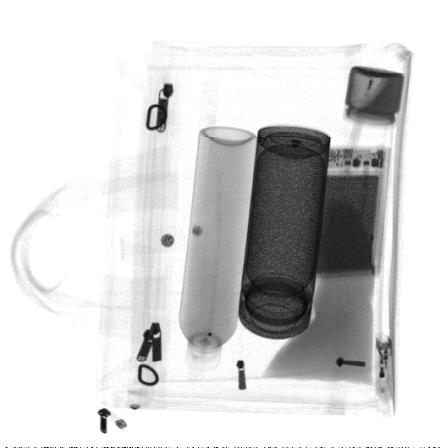Lighter: (375, 332, 394, 402)
Powerbank: (306, 145, 391, 280)
Sprayer: (178, 127, 256, 375)
